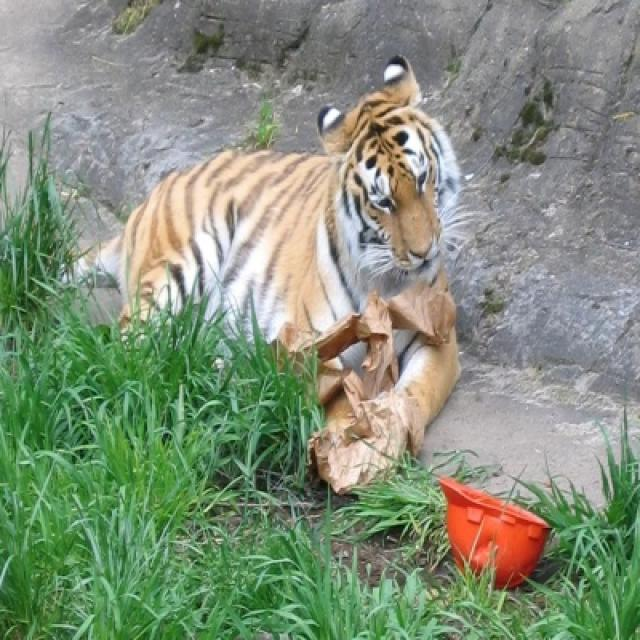Tiger: (57, 63, 460, 437)
